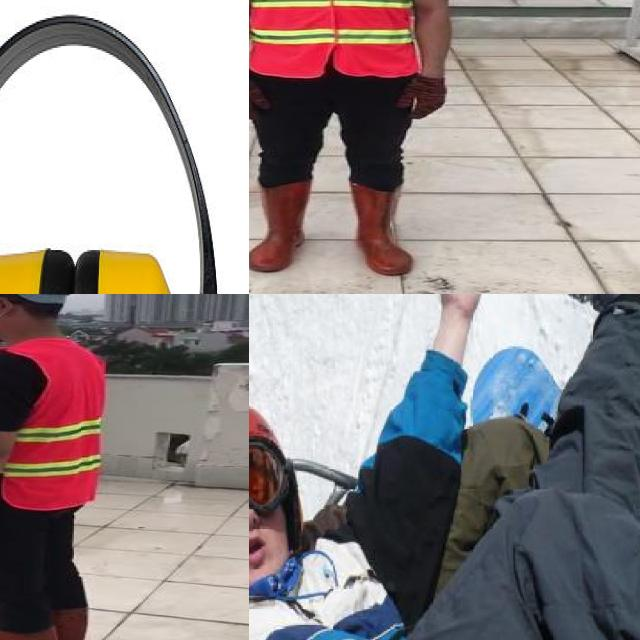Ear-protection: (0, 9, 236, 294)
boots: (346, 181, 416, 275), (249, 183, 304, 274), (49, 607, 91, 640)
face_nomask: (249, 484, 285, 570)
glasses: (249, 431, 289, 535)
hand_glove: (397, 77, 449, 118), (249, 79, 269, 120)
head_helmet: (249, 401, 288, 478)
person: (249, 294, 640, 640), (249, 0, 464, 286), (0, 294, 119, 640)
vest: (0, 339, 106, 509), (249, 0, 416, 77)
